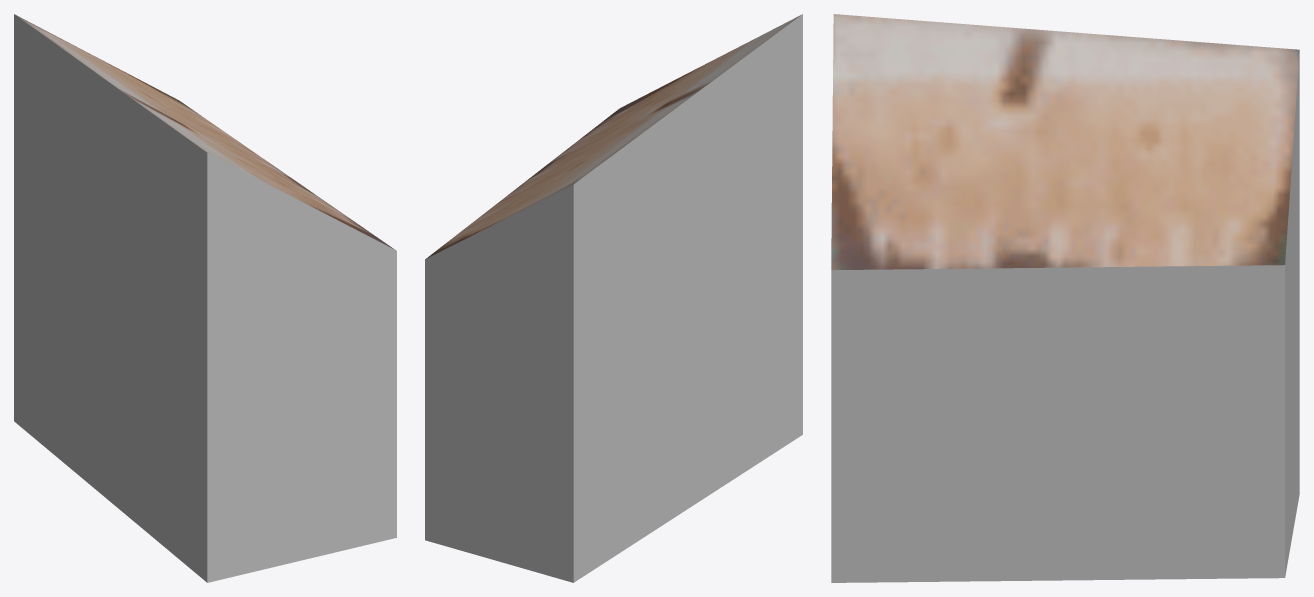
File: DEBW_0010007Tx7W.gltf
3 renders of one model, left to right at view 1: azimuth 30°, elevation 25°; view 2: azimuth 150°, elevation 25°; view 3: azimuth 270°, elevation 25°, orthographic. The views are drawn at different scales.
Visible parts, largest first — view 1: Z_UP; view 2: Z_UP; view 3: Z_UP.
Boxes of the visible parts, x1=… form: Z_UP: x1=14, y1=14, x2=396, y2=582; Z_UP: x1=425, y1=14, x2=802, y2=582; Z_UP: x1=831, y1=14, x2=1299, y2=582.
Bounding box in the file's own units: 6.95 × 15.17 × 13.74.
2 materials, 1 textured.
